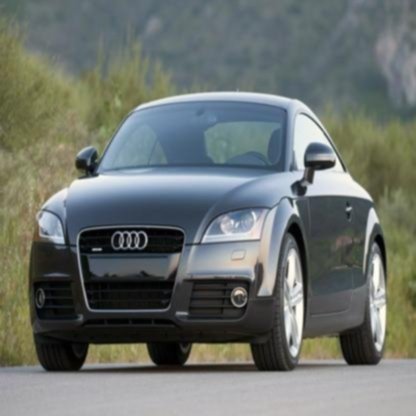Vehicle: (28, 88, 388, 374)
